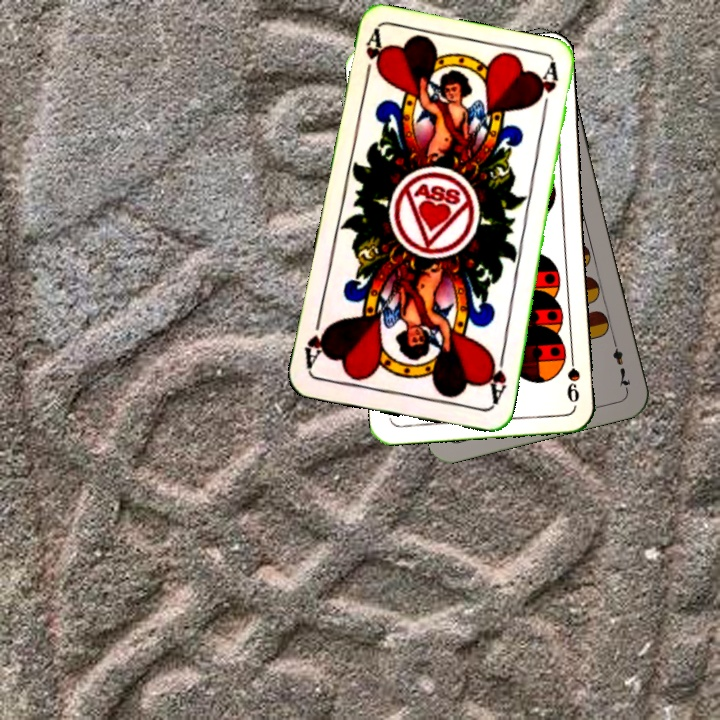E7: (608, 334, 633, 392)
HA: (360, 28, 388, 86), (483, 349, 509, 407)
S9: (563, 347, 583, 405)
